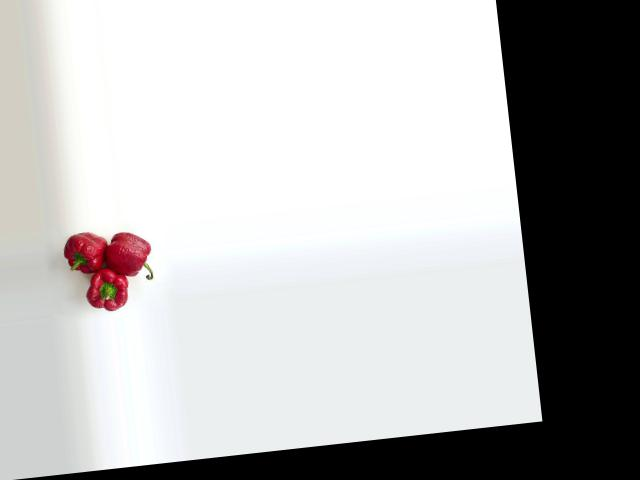bell_pepper: (106, 226, 164, 286)
